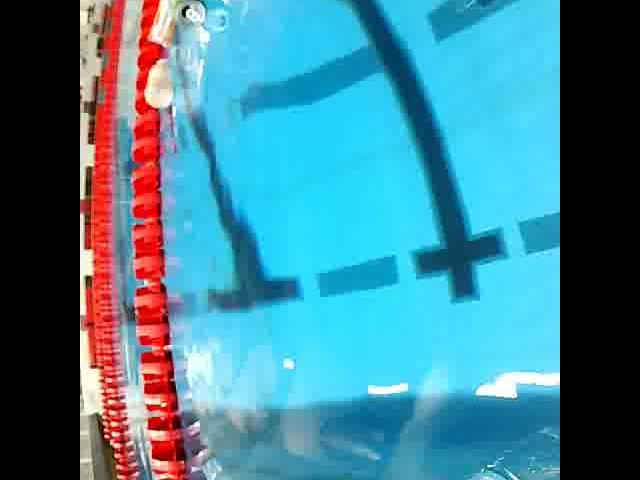Bottle: (397, 452, 560, 480), (143, 52, 179, 110), (143, 0, 179, 48)
Can: (165, 0, 207, 34)
